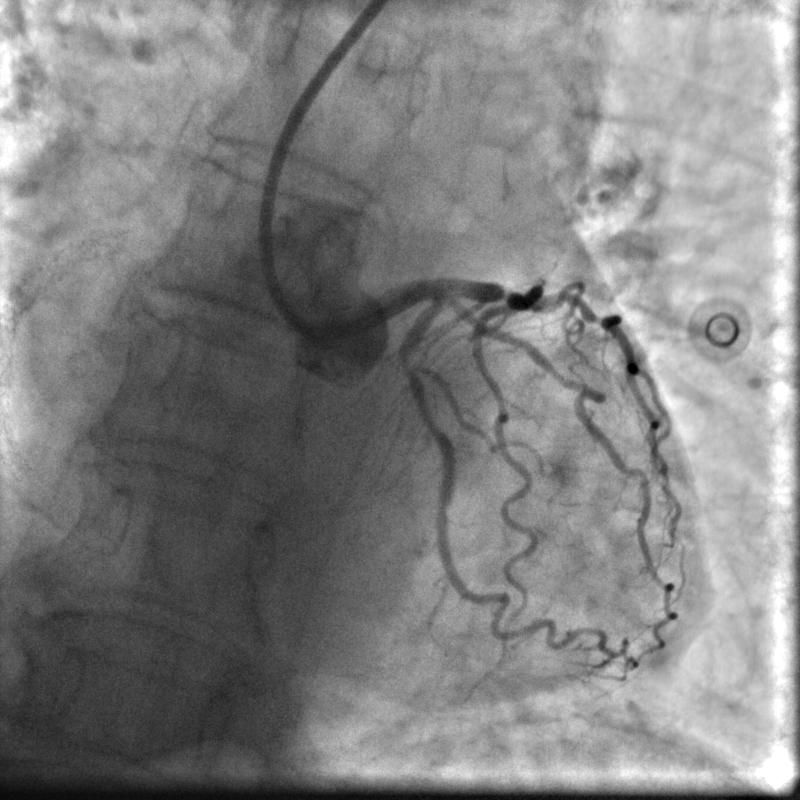Stenosis: (399, 346, 420, 377)
